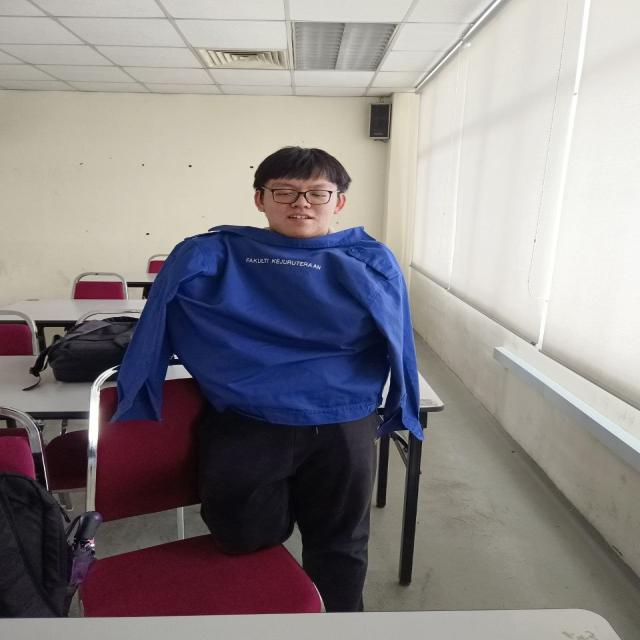person_without_labcoat: (113, 147, 417, 611)
